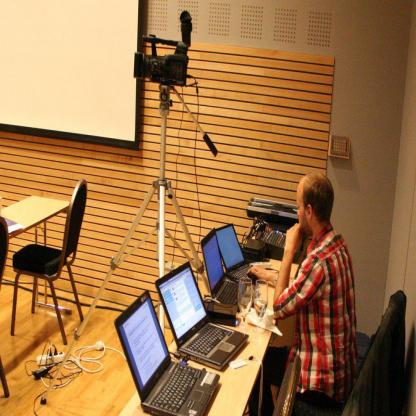board: (114, 290, 219, 416), (156, 261, 248, 369), (198, 227, 247, 307), (215, 223, 257, 284)
